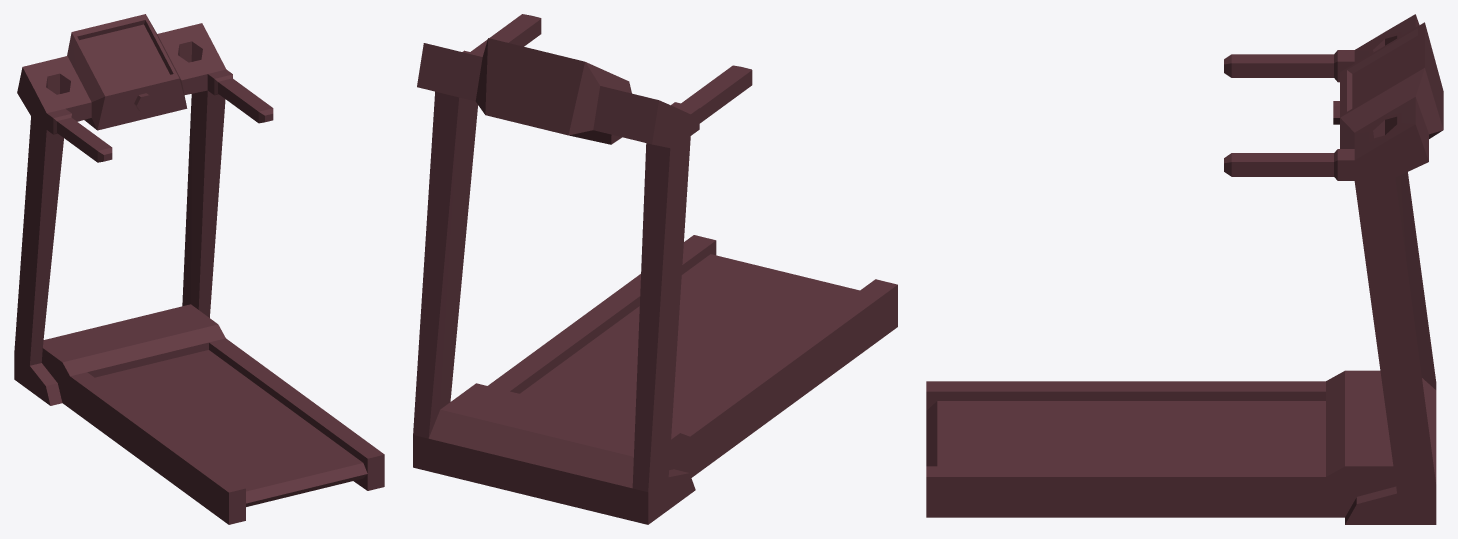
Rendered from treadmill.fbx.
3 renders of one model, left to right at view 1: azimuth 30°, elevation 25°; view 2: azimuth 150°, elevation 25°; view 3: azimuth 270°, elevation 25°, orthographic. The views are drawn at different scales.
Parts seen in each view (by area): view 1: treadmill; view 2: treadmill; view 3: treadmill.
Boxes of the visible parts, bbox=[...] form: treadmill: bbox=[14, 14, 384, 524]; treadmill: bbox=[413, 14, 897, 524]; treadmill: bbox=[926, 14, 1443, 524].
Size of the model in its own units: 0.7515 by 1.35 by 1.49.
